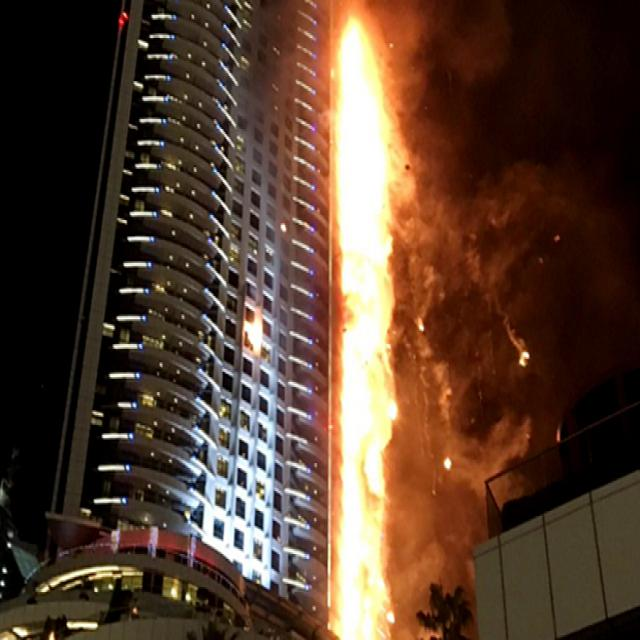fire: (340, 24, 392, 628)
